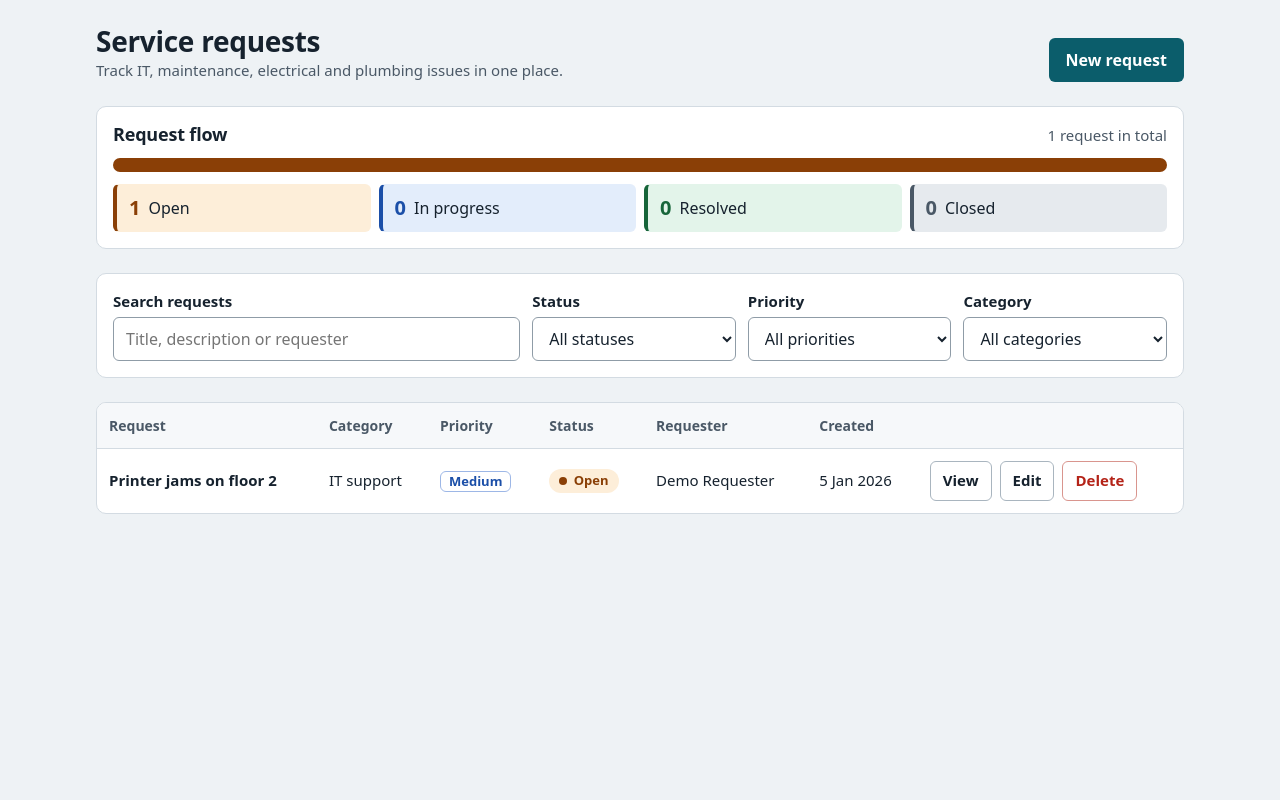
Scenario: view, edit and delete › opens details fetched from the API
This screenshot has width=1280, height=800.
Expected: the column heading "Printer jams on floor 2" is shown, [97, 448, 317, 512]
Step 1. Click the button "View" → {"x": 961, "y": 480}, box [930, 460, 992, 500]
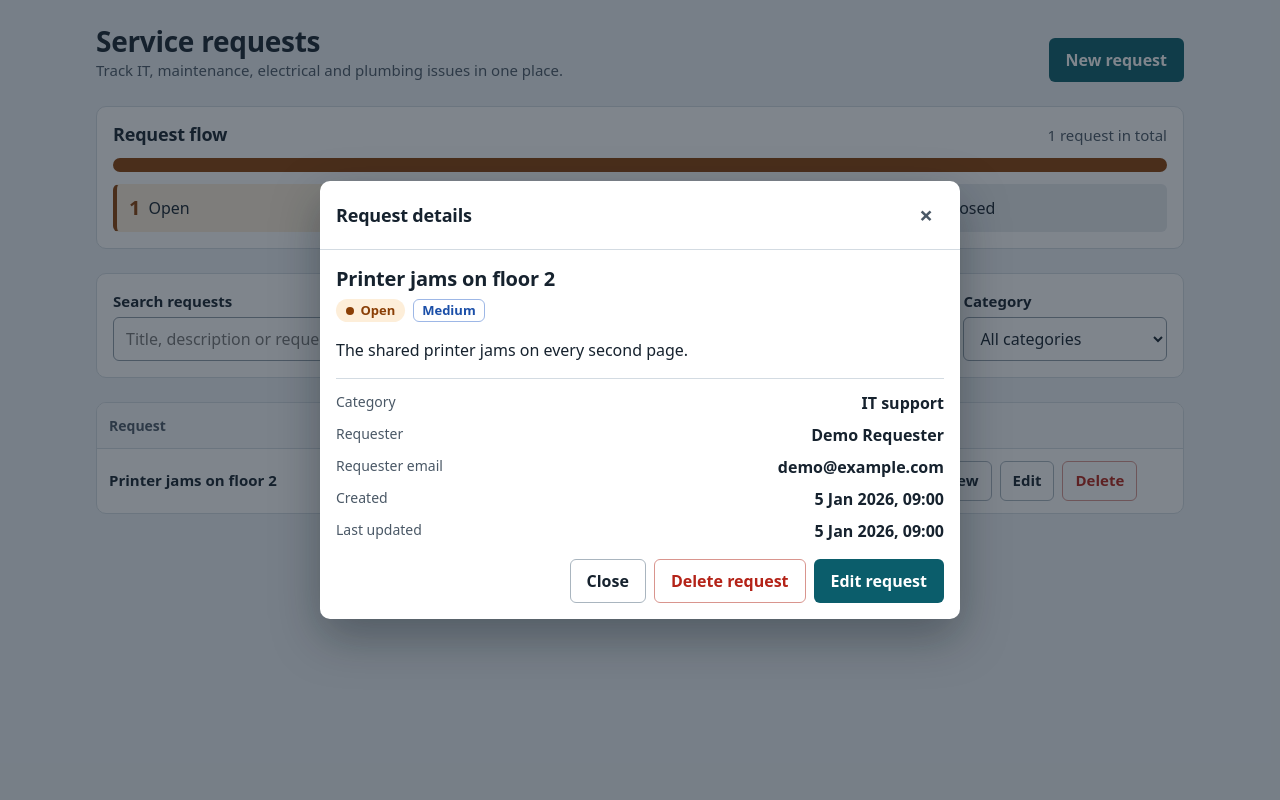
Expected: the text "The shared printer jams on every second page." is shown, [336, 339, 688, 361]
